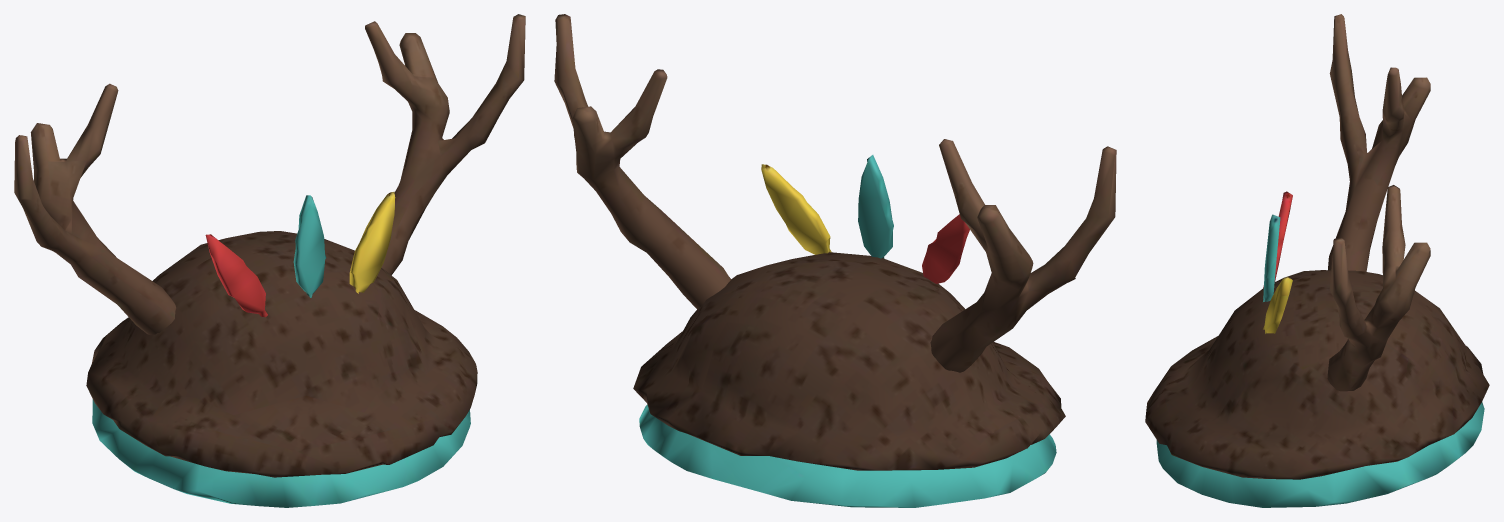
File: shaman-cap.glb
3 views of the same model, side by side, from view 1: azimuth 30°, elevation 25°; view 2: azimuth 150°, elevation 25°; view 3: azimuth 270°, elevation 25° (orthographic). The views are drawn at different scales.
Visible parts, largest first — view 1: cap; view 2: cap; view 3: cap.
Boxes of the visible parts, x1=… form: cap: x1=14, y1=14, x2=525, y2=507; cap: x1=554, y1=14, x2=1116, y2=507; cap: x1=1145, y1=14, x2=1489, y2=507.
Size of the model in its own units: 0.594 by 0.3898 by 0.3794.
1 material, 1 textured.
